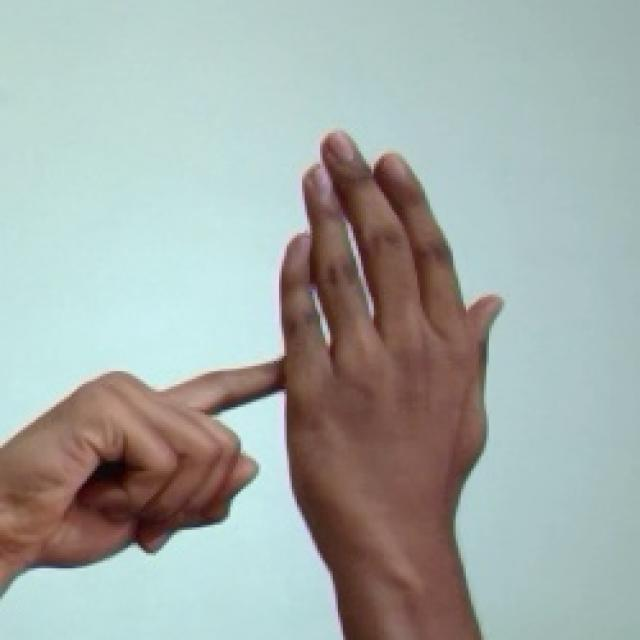Alphabet-R: (0, 123, 509, 635)
